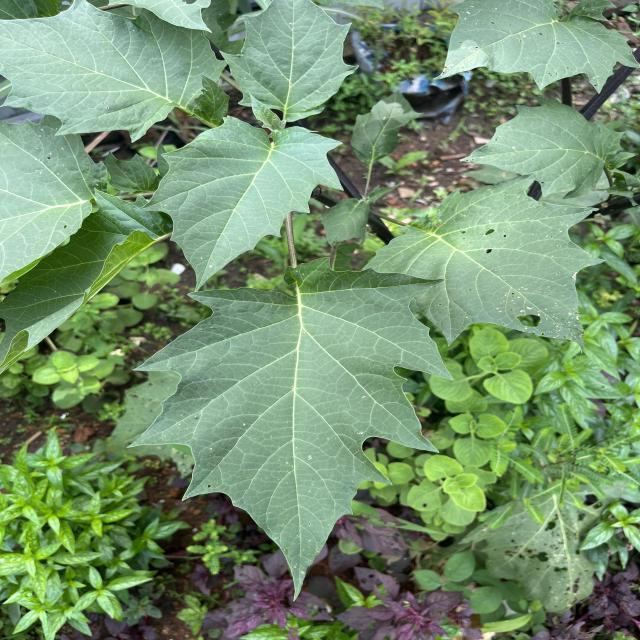Datura metal linn: (122, 252, 458, 605), (360, 170, 608, 357), (134, 112, 346, 292), (431, 1, 640, 98), (457, 92, 630, 202), (217, 0, 361, 124)
